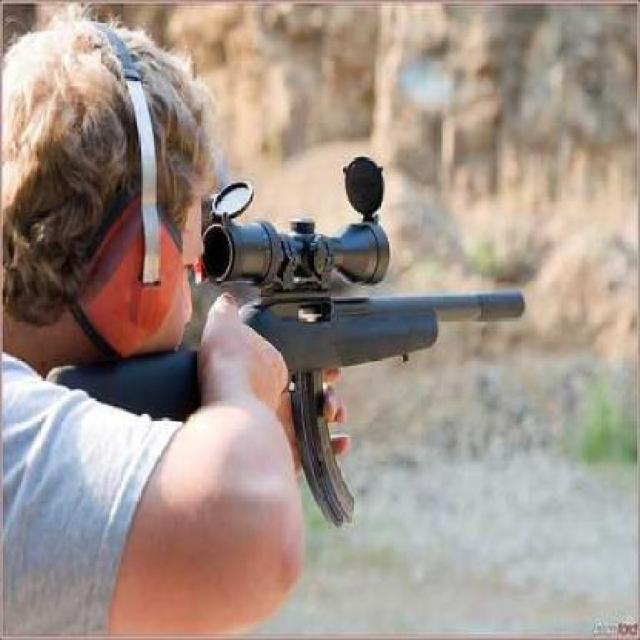weapon: (192, 176, 526, 516)
